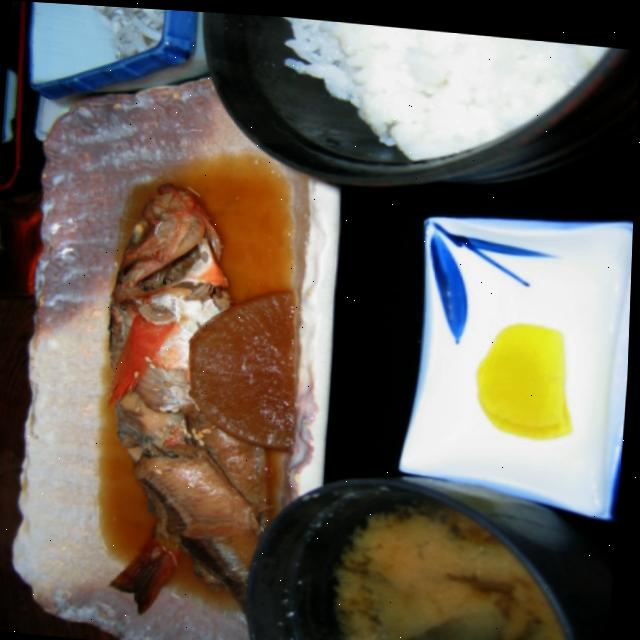熟制海鲜: (39, 146, 318, 638)
